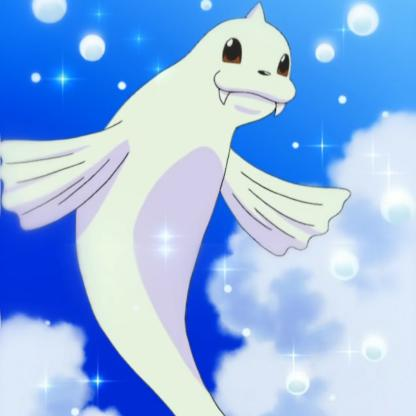Dewgong: (1, 1, 349, 416)
